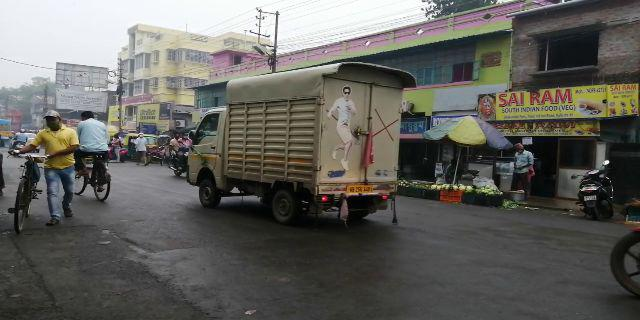Cycle: (76, 108, 116, 201), (8, 147, 44, 234)
Minitruck: (185, 62, 402, 216)
